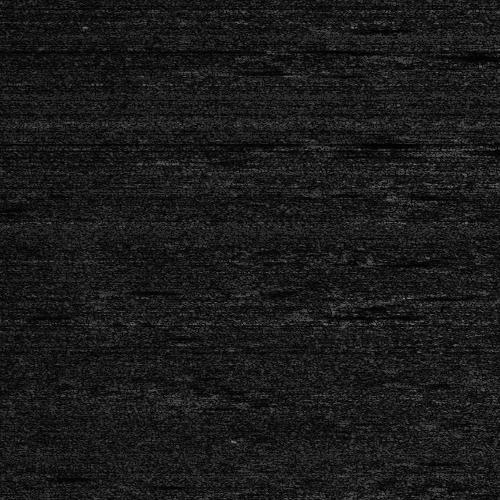object: (414, 142, 497, 153), (289, 137, 352, 144), (360, 51, 443, 56), (170, 68, 233, 73), (267, 46, 308, 51)
shadow: (455, 142, 500, 153), (402, 51, 500, 56), (321, 137, 378, 144), (201, 68, 251, 73), (288, 46, 323, 51)
